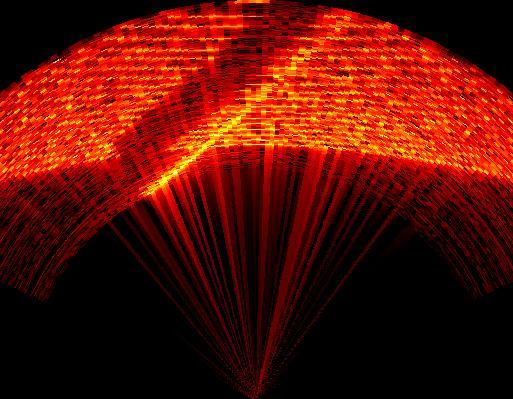pipe: (108, 2, 362, 198)
